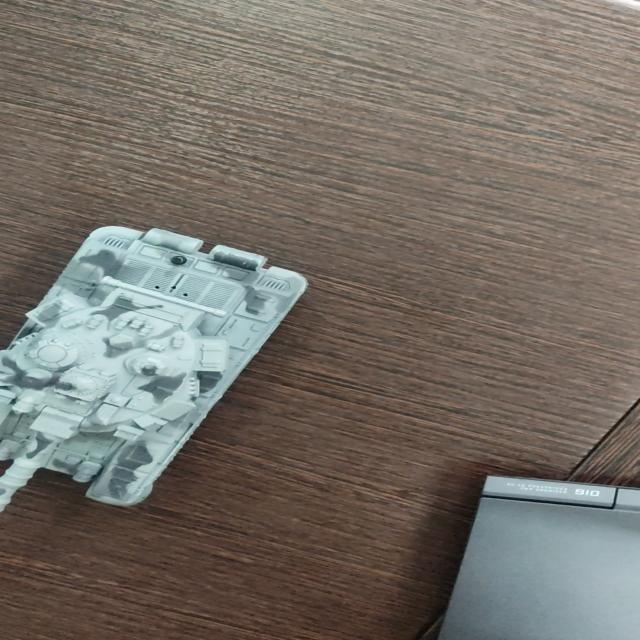tank: (3, 223, 310, 522)
